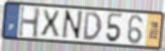5: (105, 12, 124, 44)
6: (126, 13, 144, 46)
D: (83, 11, 104, 41)
H: (17, 5, 42, 40)
N: (60, 10, 84, 42)
X: (39, 9, 61, 38)
